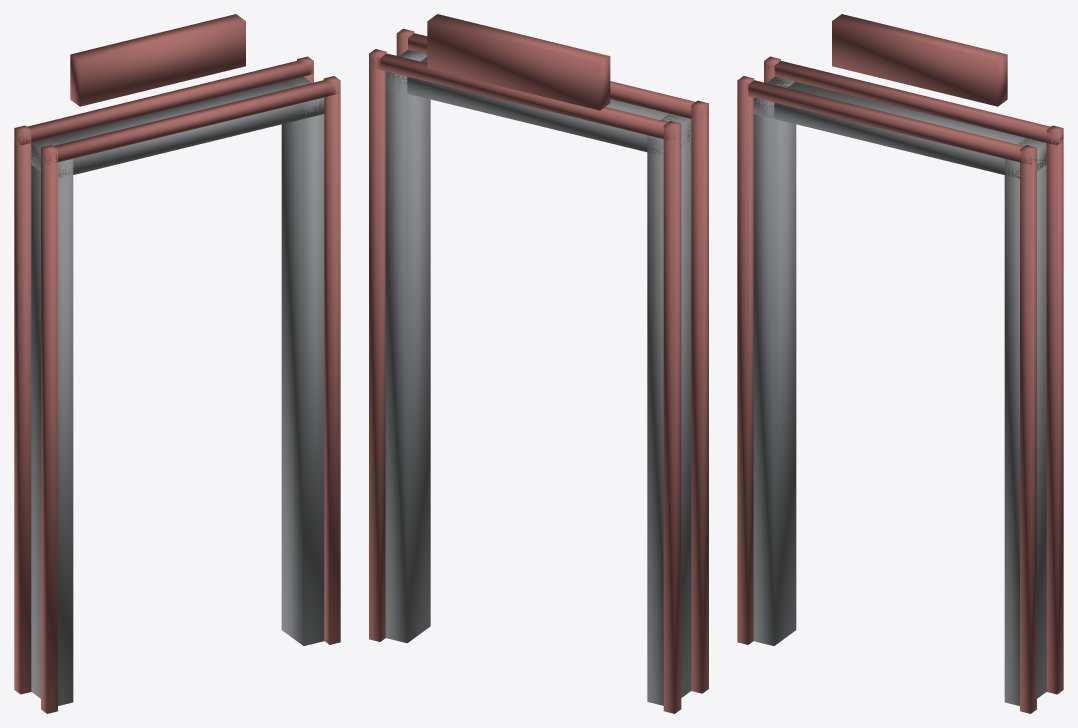
File: doorway_emergency_exit_w96_h210_d16.glb
The picture shows the model from 3 angles, left to right: view 1: azimuth 30°, elevation 25°; view 2: azimuth 150°, elevation 25°; view 3: azimuth 330°, elevation 25°; orthographic projection. The views are drawn at different scales.
Visible parts, largest first — view 1: world; view 2: world; view 3: world.
Boxes of the visible parts, x1,y1,x2,y2 form: world: [14, 14, 340, 713]; world: [369, 14, 708, 713]; world: [737, 14, 1063, 713].
Size of the model in its own units: 1.22 by 2.45 by 0.2932.
